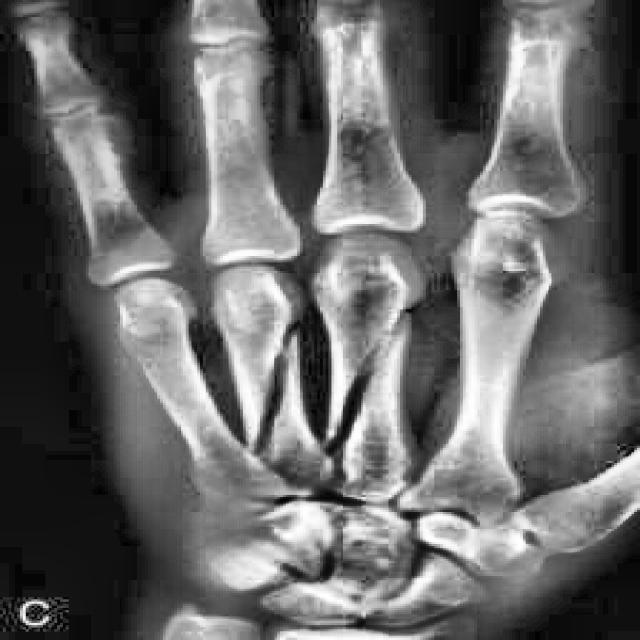fracture: (317, 292, 426, 461), (243, 314, 303, 465)
